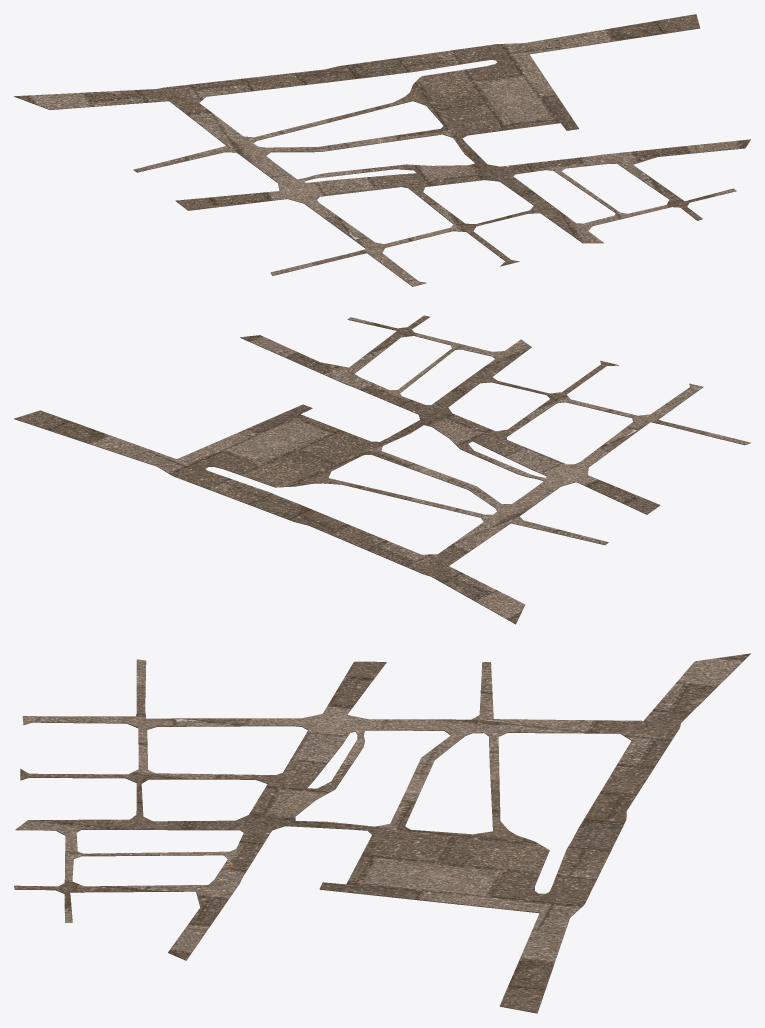
The model's file is StationRoadFix.fbx.
The picture shows the model from 3 angles, top to bottom: view 1: azimuth 30°, elevation 25°; view 2: azimuth 150°, elevation 25°; view 3: azimuth 270°, elevation 25°; orthographic projection. The views are drawn at different scales.
Visible parts, largest first — view 1: Road001; view 2: Road001; view 3: Road001.
Boxes of the visible parts, x1,y1,x2,y2 form: Road001: (14,14,750,286); Road001: (14,315,750,624); Road001: (14,653,750,1013).
Size of the model in its own units: 68831 by 59.44 by 59625.
